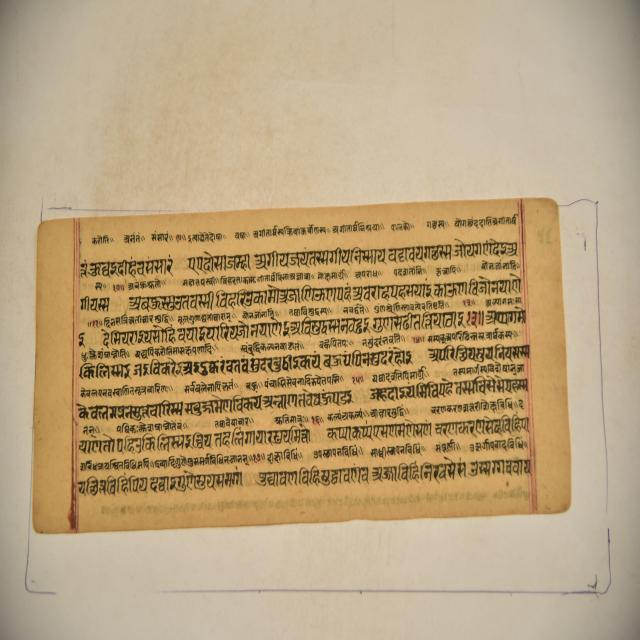text_paragraph: (32, 199, 572, 532)
